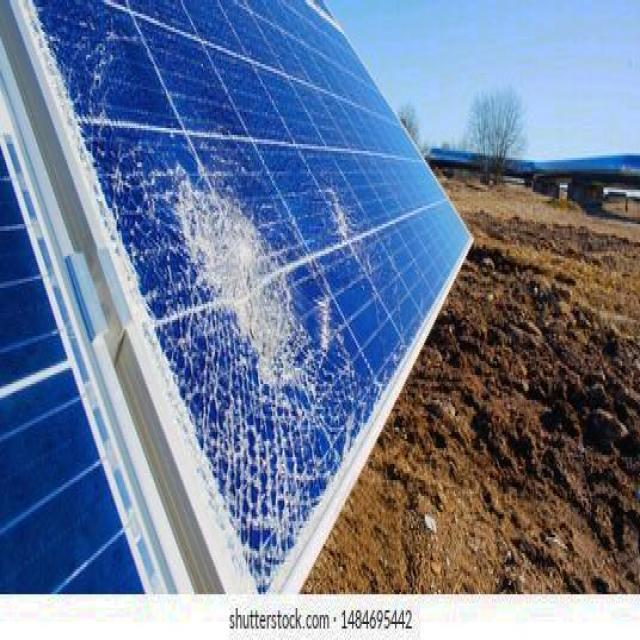faulty: (21, 2, 486, 597)
